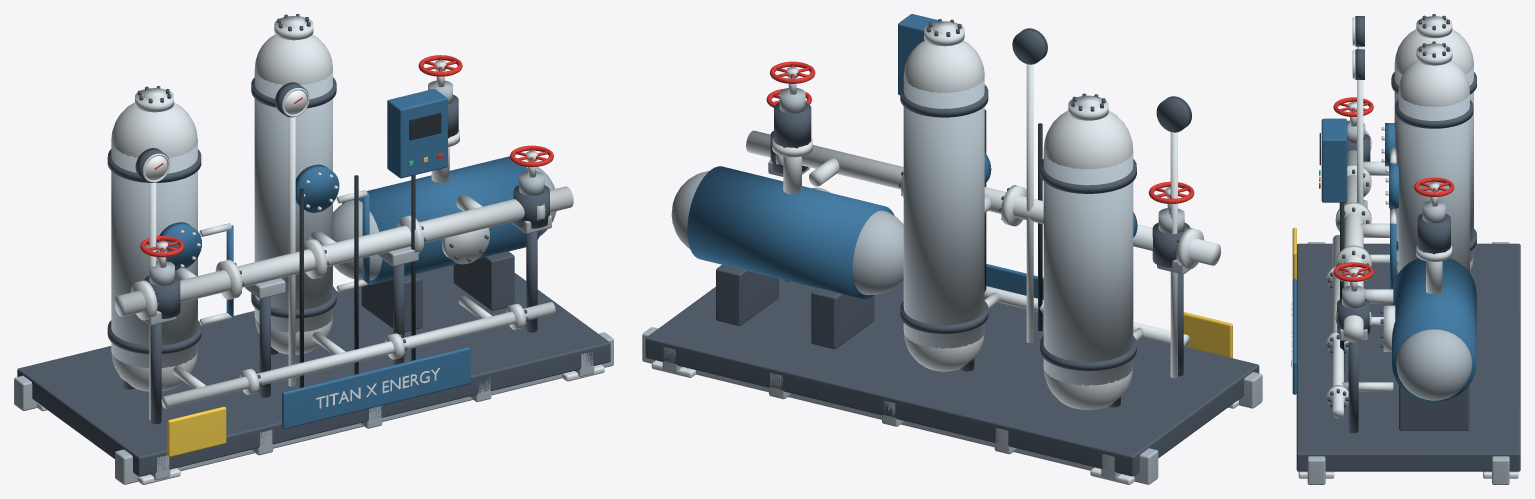
File: gas-treatment.glb
3 renders of one model, left to right at view 1: azimuth 30°, elevation 25°; view 2: azimuth 150°, elevation 25°; view 3: azimuth 270°, elevation 25°, orthographic. The views are drawn at different scales.
Visible parts, largest first — view 1: Main Skid Deck, Secondary Filter Separator Vessel Shell, Primary Inlet Separator Vessel Shell, Horizontal Treatment Vessel Shell, Main Gas Manifold, Titan X Energy Brand Plate, Common Drain Header, Gas Treatment Instrument Cabinet, Primary Inlet Separator Upper Head, Secondary Filter Separator Upper Head, Horizontal Vessel Saddle.001, Longitudinal Frame Beam (+25 smaller); view 2: Main Skid Deck, Secondary Filter Separator Vessel Shell, Primary Inlet Separator Vessel Shell, Horizontal Treatment Vessel Shell, Main Gas Manifold, Primary Inlet Separator Upper Head, Horizontal Vessel End Head, Secondary Filter Separator Upper Head, Horizontal Vessel Saddle, Horizontal Vessel Saddle.001, Longitudinal Frame Beam.001, Secondary Separator Pressure Gauge Support (+19 smaller); view 3: Main Skid Deck, Secondary Filter Separator Vessel Shell, Horizontal Treatment Vessel Shell, Horizontal Vessel End Head.001, Secondary Filter Separator Upper Head, Horizontal Vessel Saddle.001, Gas Treatment Instrument Cabinet, Main Gas Manifold, Primary Inlet Separator Upper Head, Common Drain Header, Primary Inlet Separator Vessel Shell, Treatment Vessel Safety Valve Body (+32 smaller).
Part boxes in pixels (x1=…): Main Skid Deck: x1=17, y1=265, x2=610, y2=476; Secondary Filter Separator Vessel Shell: x1=254, y1=69, x2=332, y2=332; Primary Inlet Separator Vessel Shell: x1=111, y1=140, x2=197, y2=367; Horizontal Treatment Vessel Shell: x1=342, y1=156, x2=540, y2=284; Main Gas Manifold: x1=114, y1=186, x2=573, y2=316; Titan X Energy Brand Plate: x1=282, y1=347, x2=470, y2=428; Common Drain Header: x1=161, y1=302, x2=555, y2=408; Gas Treatment Instrument Cabinet: x1=387, y1=89, x2=447, y2=178; Primary Inlet Separator Upper Head: x1=111, y1=102, x2=197, y2=158; Secondary Filter Separator Upper Head: x1=255, y1=34, x2=332, y2=84; Horizontal Vessel Saddle.001: x1=453, y1=251, x2=514, y2=310; Longitudinal Frame Beam: x1=115, y1=332, x2=613, y2=484; Main Skid Deck: x1=645, y1=278, x2=1259, y2=476; Secondary Filter Separator Vessel Shell: x1=903, y1=75, x2=984, y2=348; Primary Inlet Separator Vessel Shell: x1=1043, y1=150, x2=1133, y2=385; Horizontal Treatment Vessel Shell: x1=687, y1=166, x2=894, y2=299; Main Gas Manifold: x1=746, y1=130, x2=1220, y2=265; Primary Inlet Separator Upper Head: x1=1043, y1=110, x2=1132, y2=169; Horizontal Vessel End Head: x1=852, y1=210, x2=903, y2=294; Secondary Filter Separator Upper Head: x1=904, y1=40, x2=984, y2=93; Horizontal Vessel Saddle: x1=811, y1=288, x2=874, y2=349; Horizontal Vessel Saddle.001: x1=716, y1=264, x2=778, y2=325; Longitudinal Frame Beam.001: x1=642, y1=327, x2=1158, y2=484; Secondary Separator Pressure Gauge Support: x1=1026, y1=64, x2=1033, y2=342; Main Skid Deck: x1=1296, y1=243, x2=1520, y2=471; Secondary Filter Separator Vessel Shell: x1=1398, y1=92, x2=1469, y2=273; Horizontal Treatment Vessel Shell: x1=1392, y1=258, x2=1476, y2=402; Horizontal Vessel End Head.001: x1=1396, y1=329, x2=1472, y2=400; Secondary Filter Separator Upper Head: x1=1398, y1=60, x2=1469, y2=106; Horizontal Vessel Saddle.001: x1=1399, y1=385, x2=1469, y2=430; Gas Treatment Instrument Cabinet: x1=1321, y1=118, x2=1347, y2=202; Main Gas Manifold: x1=1343, y1=150, x2=1363, y2=342; Primary Inlet Separator Upper Head: x1=1394, y1=29, x2=1473, y2=74; Common Drain Header: x1=1332, y1=235, x2=1343, y2=418; Primary Inlet Separator Vessel Shell: x1=1394, y1=65, x2=1473, y2=262; Treatment Vessel Safety Valve Body: x1=1417, y1=213, x2=1450, y2=253.
Bounding box in the file's own units: 4.11 × 2.81 × 1.79.
